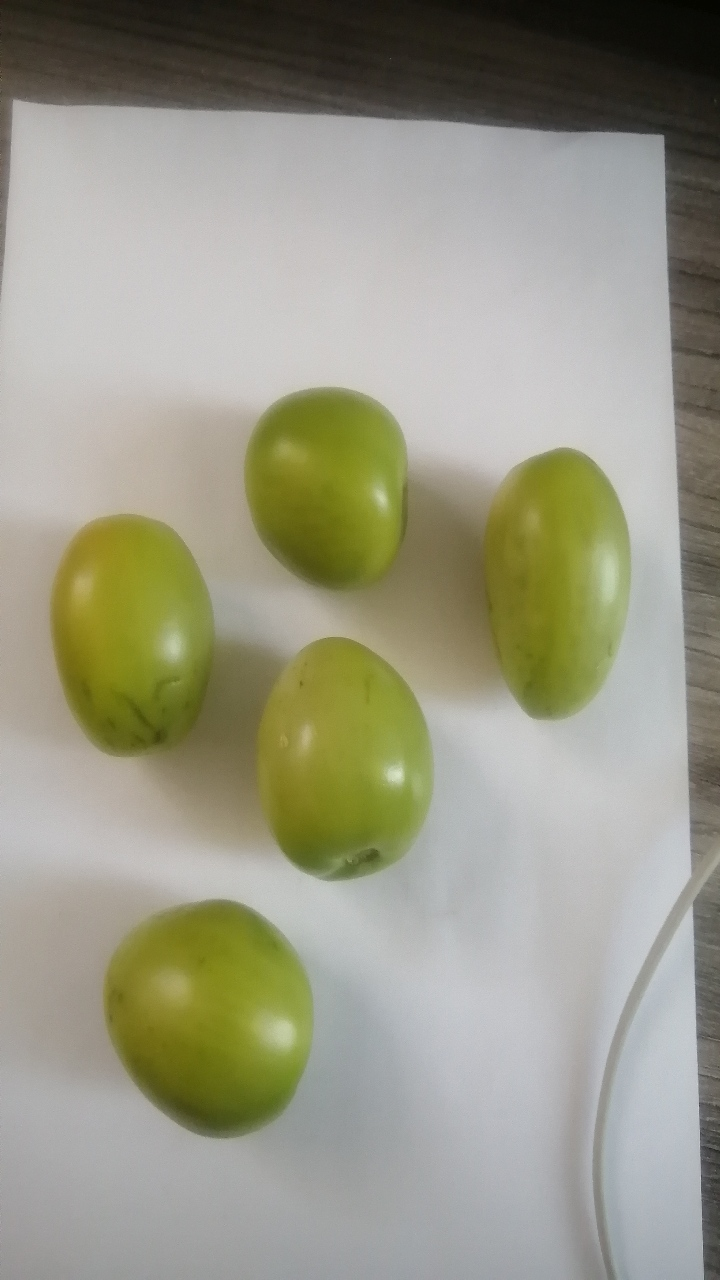tomateVerde: (77, 869, 323, 1152), (455, 426, 660, 754), (218, 352, 431, 631), (248, 622, 441, 912), (46, 494, 235, 768)
